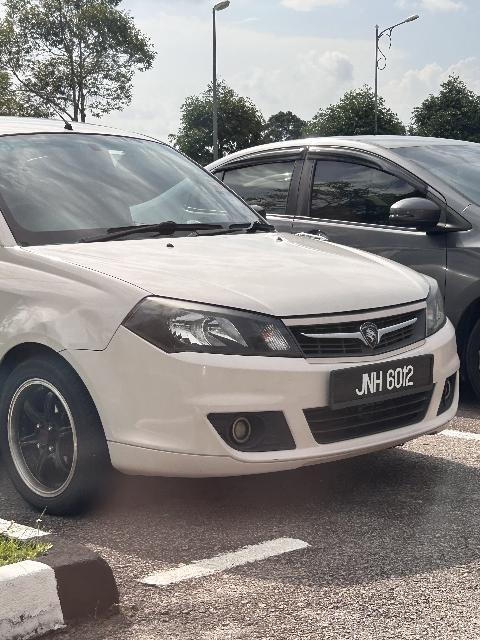JHN6012: (327, 351, 442, 416)
License_Plate: (327, 351, 442, 416)
car: (2, 103, 467, 509)
